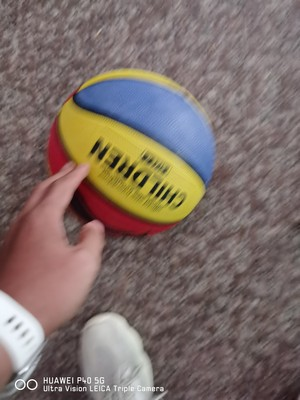ball: (48, 68, 216, 238)
